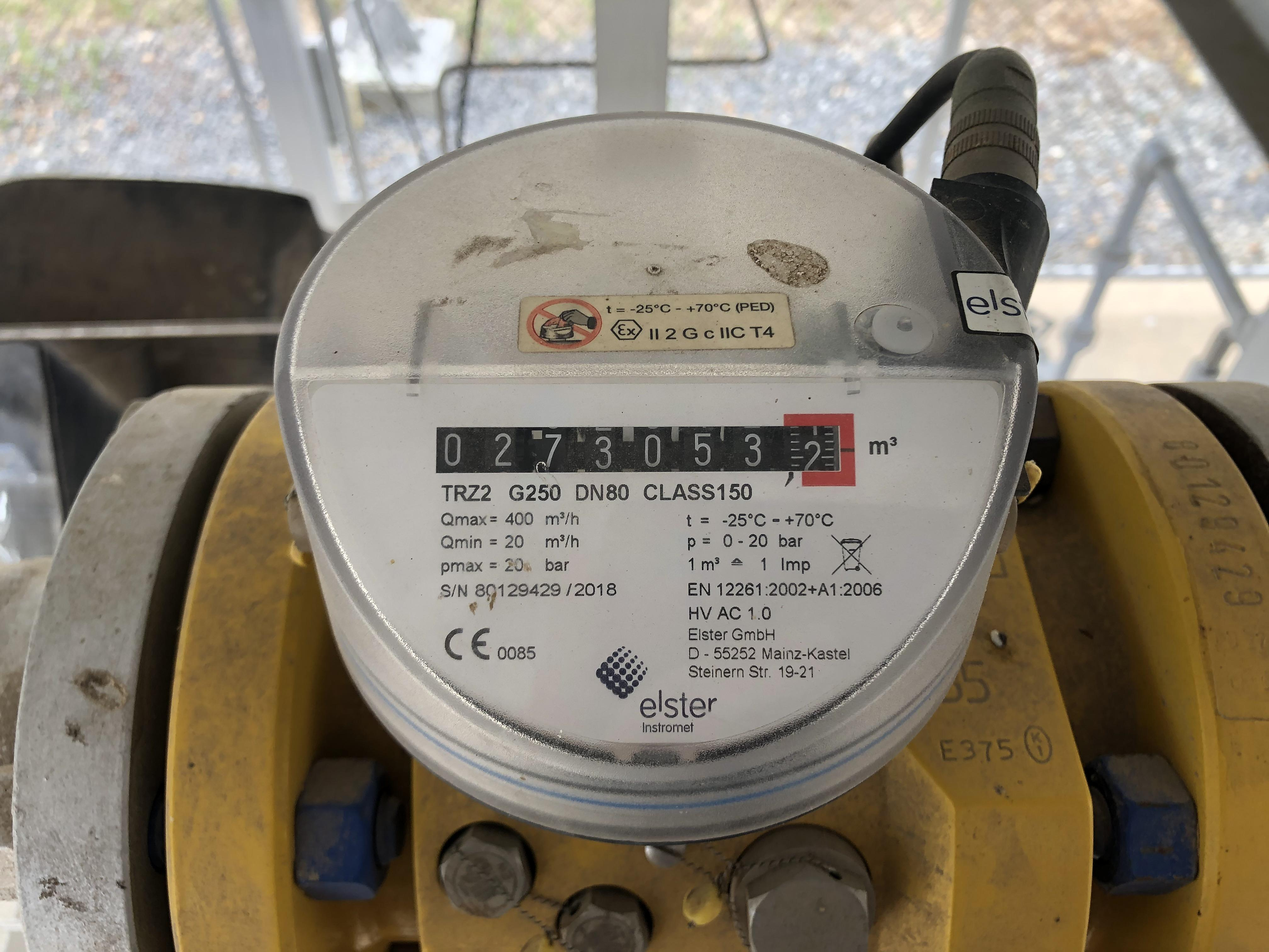analog_dial: (432, 400, 861, 489)
